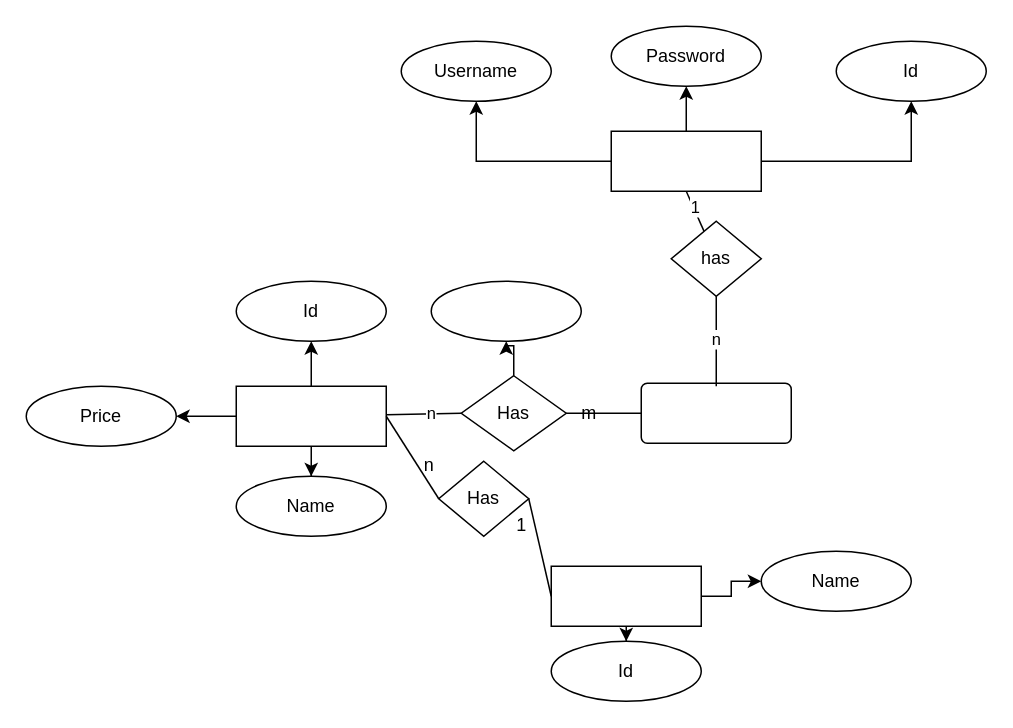
The diagram is 1013 pixels wide and 728 high, and some of its shapes have lost their labels. Here are the shapes that lost their labels. From the top down, the box of each, then its label:
(610, 130, 761, 191): Client
(430, 280, 581, 341): Quantity
(235, 385, 386, 446): Product
(640, 382, 791, 443): Order
(550, 565, 701, 626): Product type
